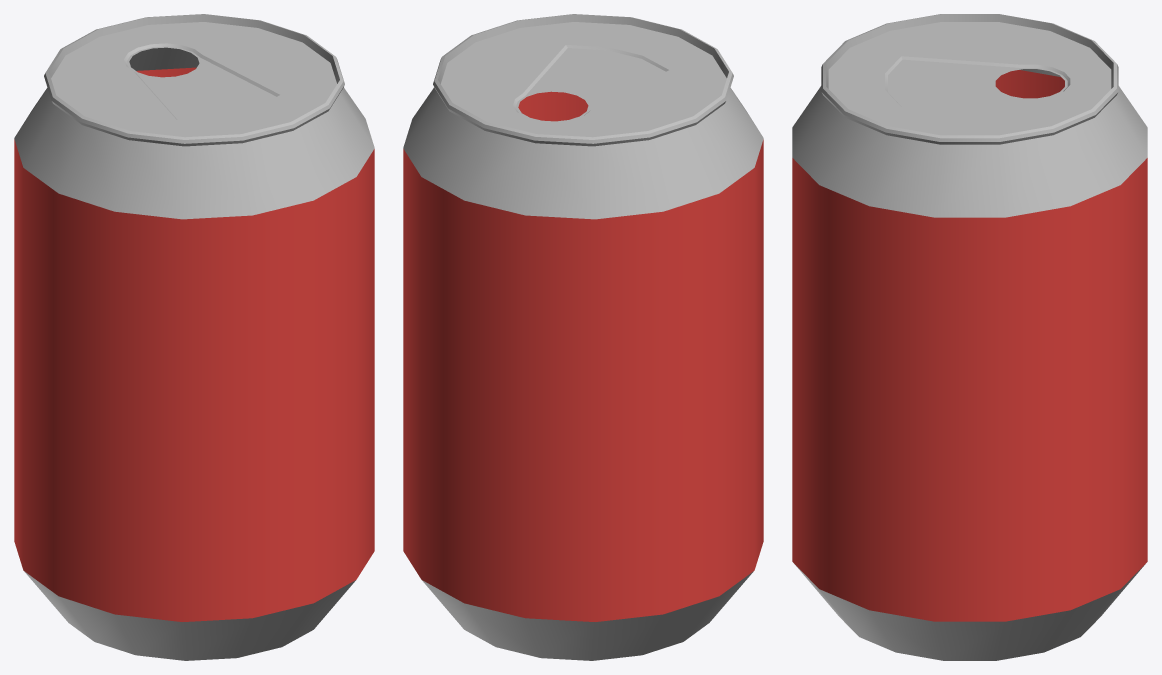
Rendered from Props_Soda1.fbx.
3 renders of one model, left to right at view 1: azimuth 30°, elevation 25°; view 2: azimuth 150°, elevation 25°; view 3: azimuth 270°, elevation 25°, orthographic.
Visible parts, largest first — view 1: Props_Soda1; view 2: Props_Soda1; view 3: Props_Soda1.
Part boxes in pixels (x1,y1,x2,y2): Props_Soda1: (14,14,374,660); Props_Soda1: (403,14,763,660); Props_Soda1: (792,14,1147,660).
Size of the model in its own units: 19.52 by 32.15 by 19.52.
